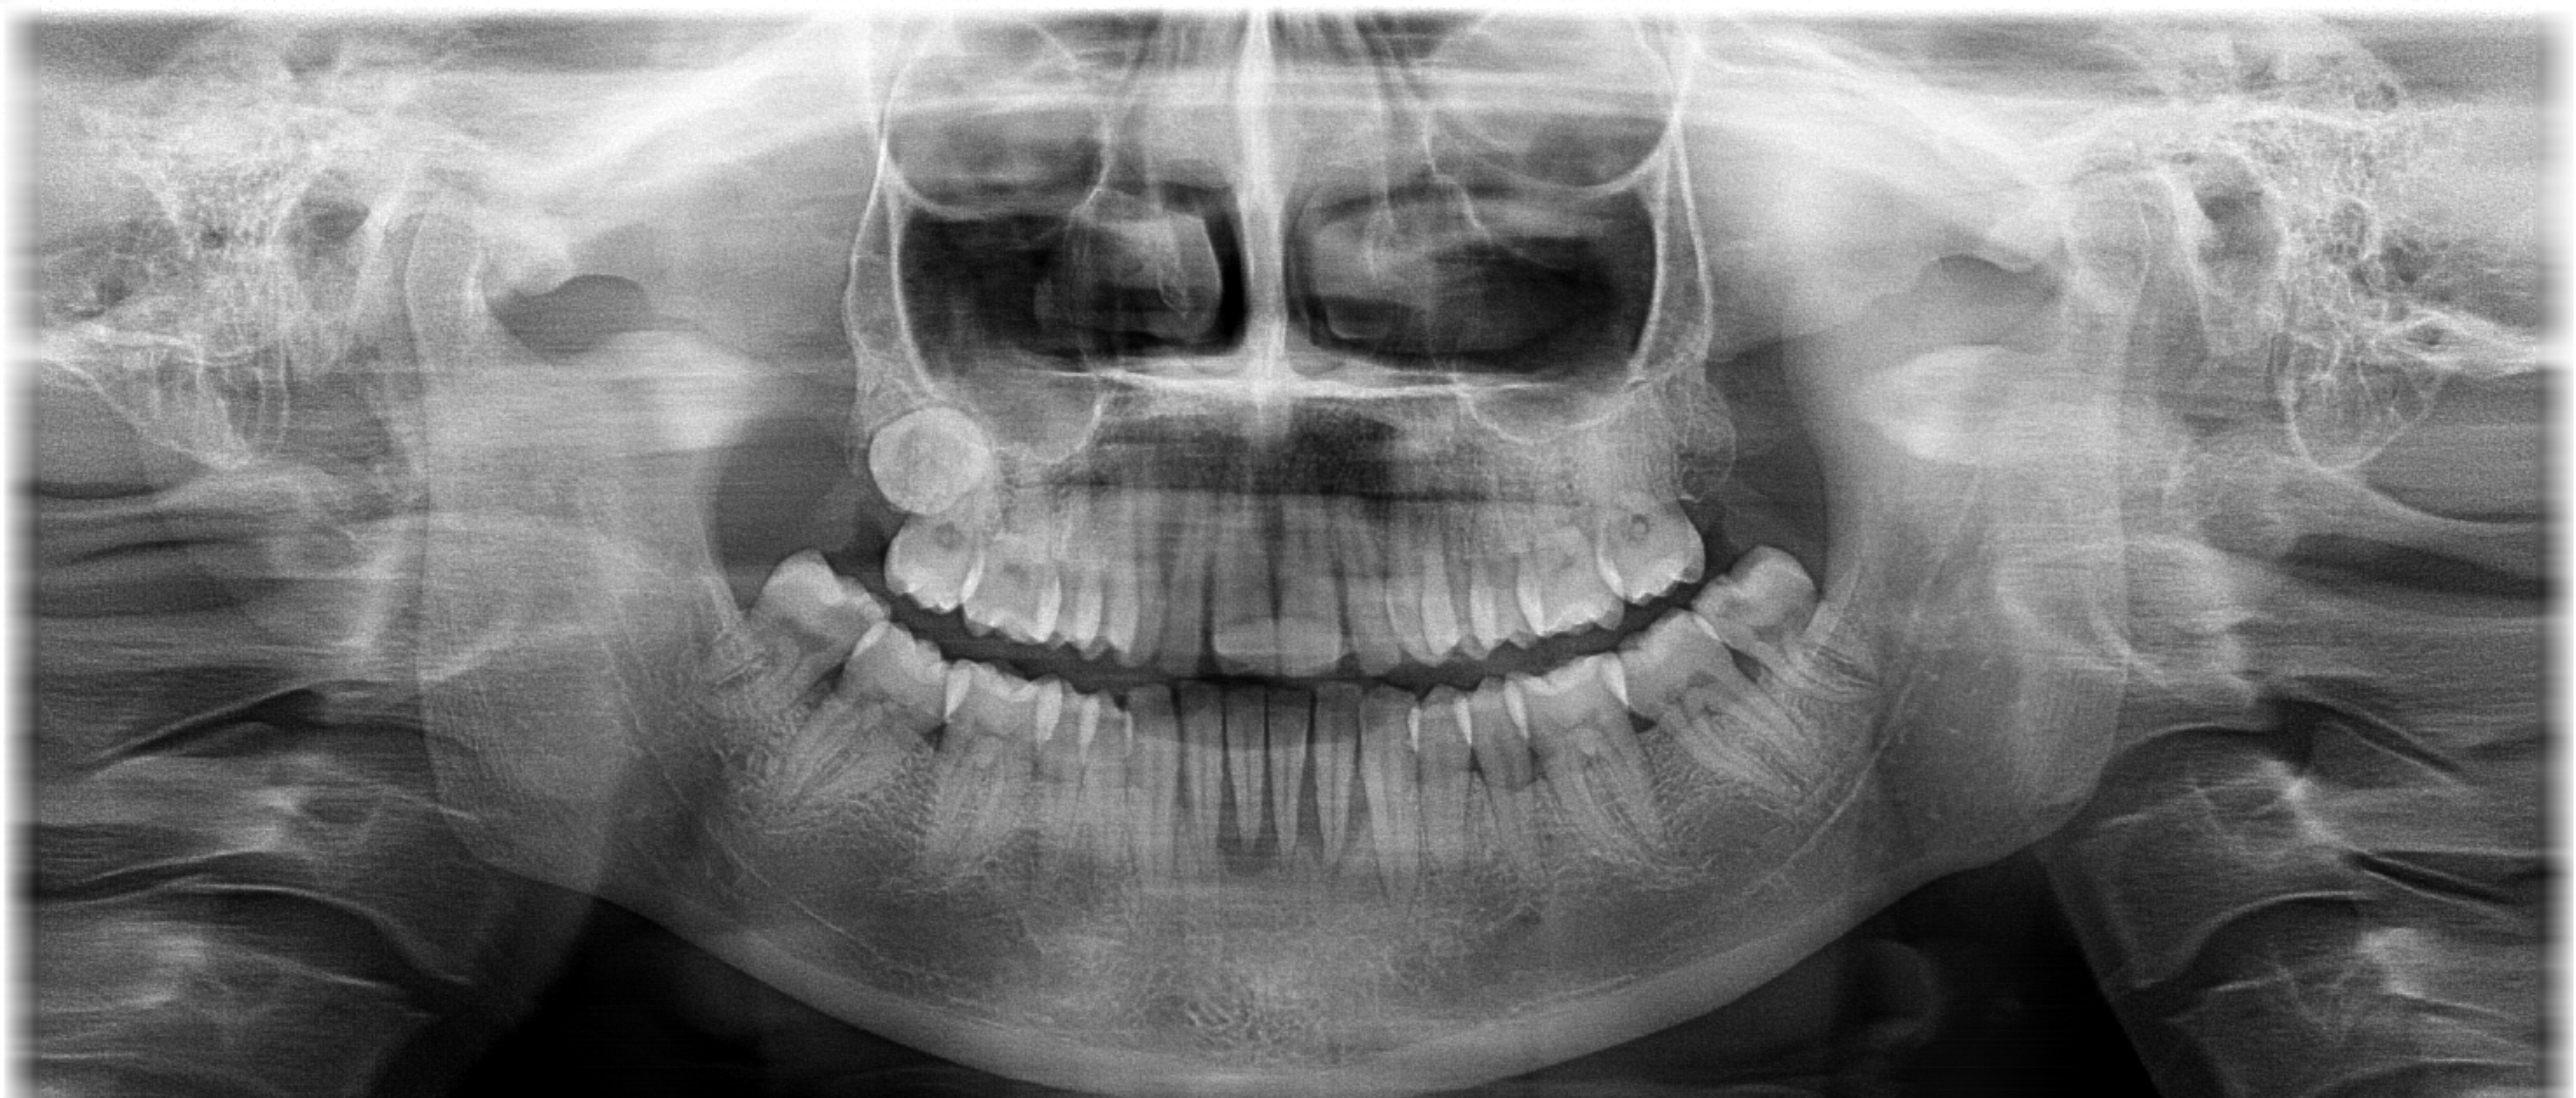cordal: (679, 536, 895, 733), (1674, 537, 1896, 723)
quiste_ontogenico: (826, 385, 1022, 528)
